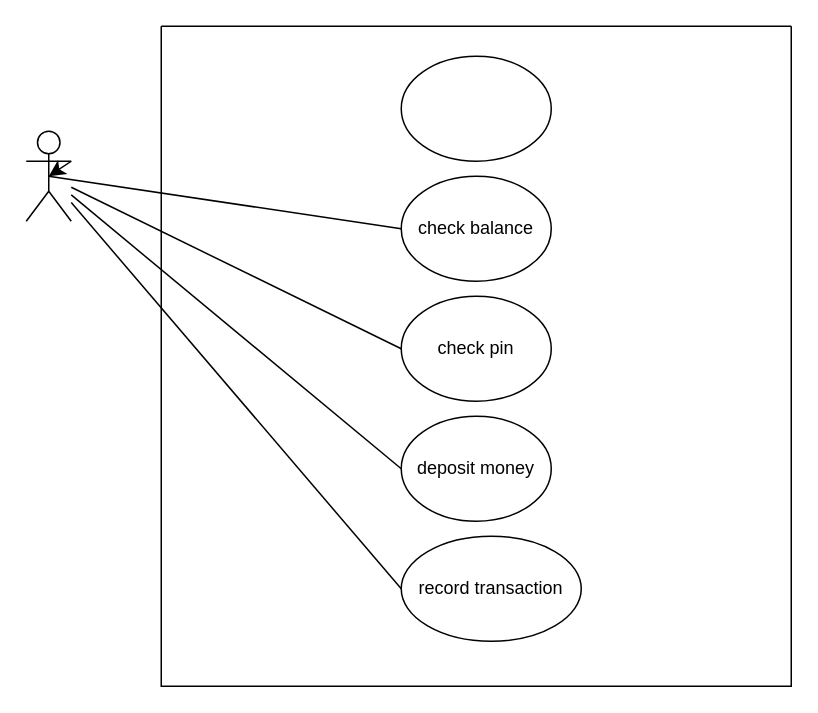
The diagram is 818 pixels wide and 713 high, and some of its shapes have lost their labels. The centre of each missing label's shape, as x and y in pixels:
"Actor" belongs at (48,175).
"withdraw money" belongs at (475,108).
